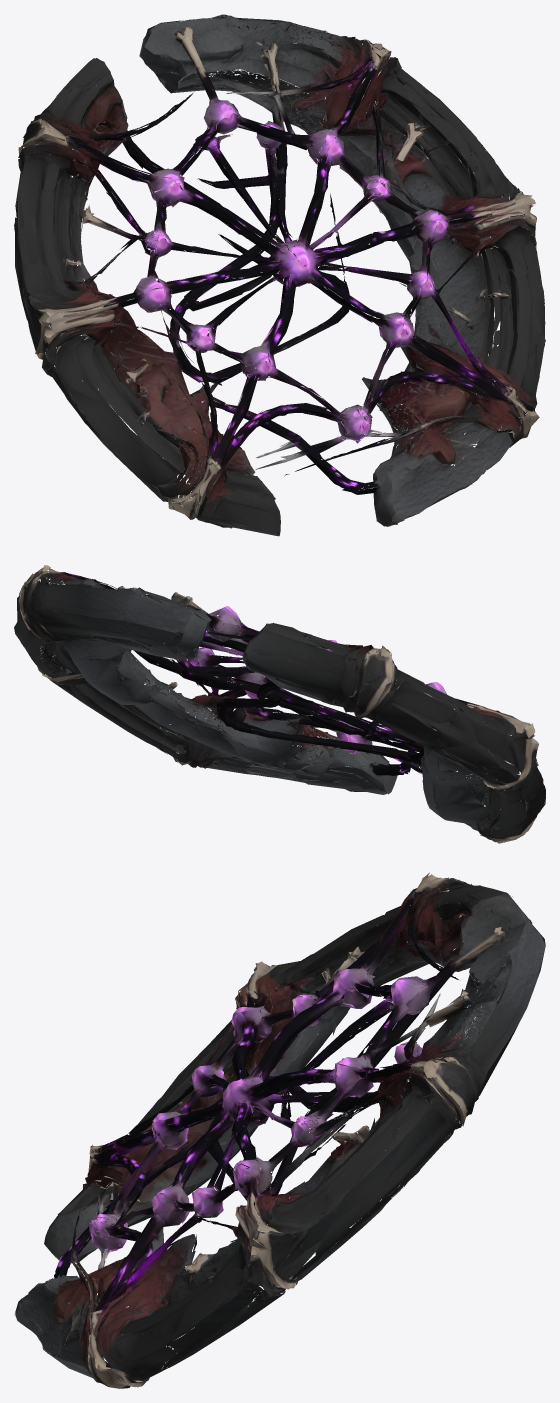
The model's file is prop_hive_synaptic_web.glb.
The picture shows the model from 3 angles, top to bottom: view 1: azimuth 30°, elevation 25°; view 2: azimuth 150°, elevation 25°; view 3: azimuth 270°, elevation 25°; orthographic projection. The views are drawn at different scales.
Parts seen in each view (by area): view 1: node_0; view 2: node_0; view 3: node_0.
Boxes of the visible parts, <box> form: node_0: <box>14,14,545,536</box>; node_0: <box>14,565,545,843</box>; node_0: <box>14,872,545,1388</box>.
Bounding box in the file's own units: 1.15 × 0.7726 × 0.9423.
1 material, 1 textured.
